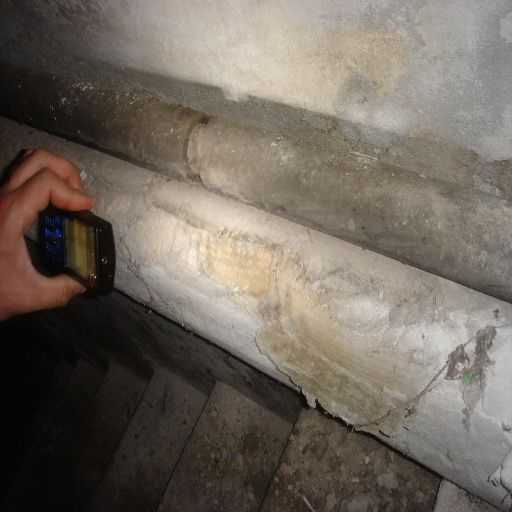hand: (0, 123, 96, 317)
